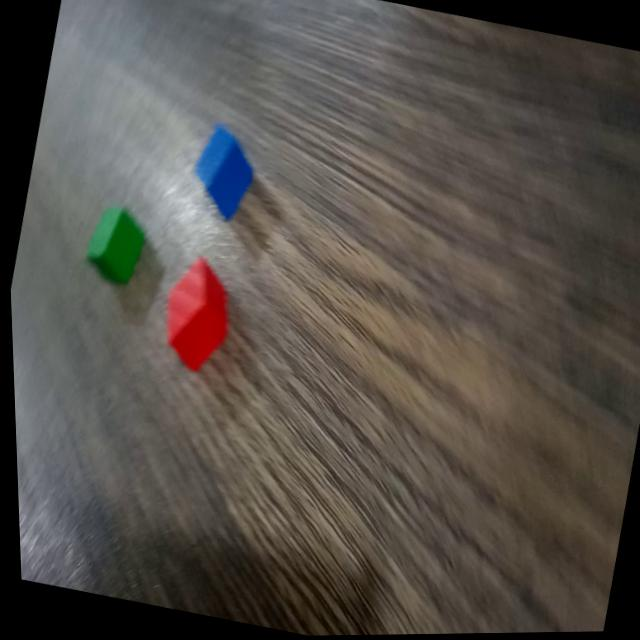cube: (146, 248, 244, 381), (182, 117, 266, 225), (76, 193, 152, 290)
